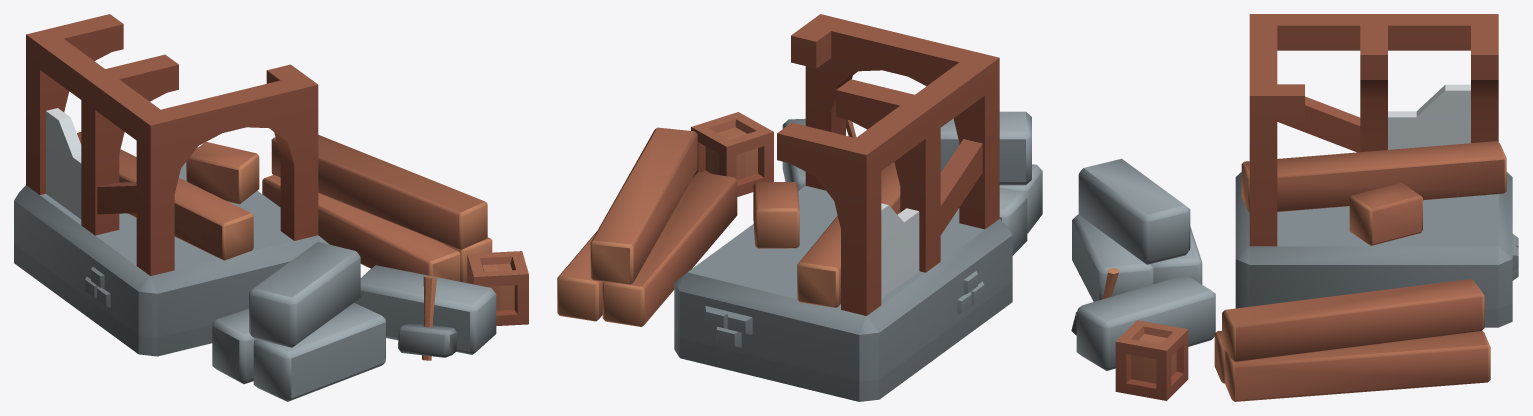
The model's file is building_stage_B.gltf.
3 views of the same model, side by side, from view 1: azimuth 30°, elevation 25°; view 2: azimuth 150°, elevation 25°; view 3: azimuth 270°, elevation 25° (orthographic). The views are drawn at different scales.
Visible parts, largest first — view 1: building_stage_B; view 2: building_stage_B; view 3: building_stage_B.
Boxes of the visible parts, left/top/right/bottom form: building_stage_B: left=14, top=14, right=528, bottom=401; building_stage_B: left=557, top=14, right=1042, bottom=401; building_stage_B: left=1071, top=14, right=1518, bottom=401.
Bounding box in the file's own units: 1.02 × 0.6359 × 1.13.
1 material, 1 textured.
